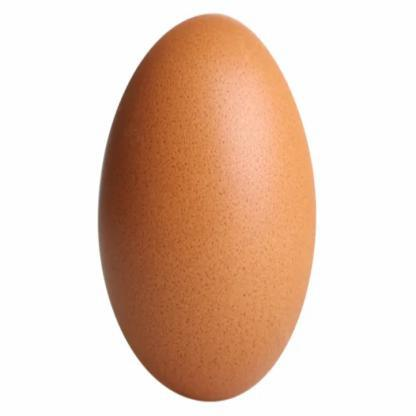egg: (100, 20, 320, 406)
